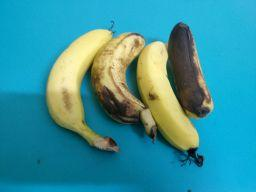banana: (45, 18, 120, 155), (135, 40, 206, 170), (89, 30, 159, 145), (165, 21, 216, 120)
